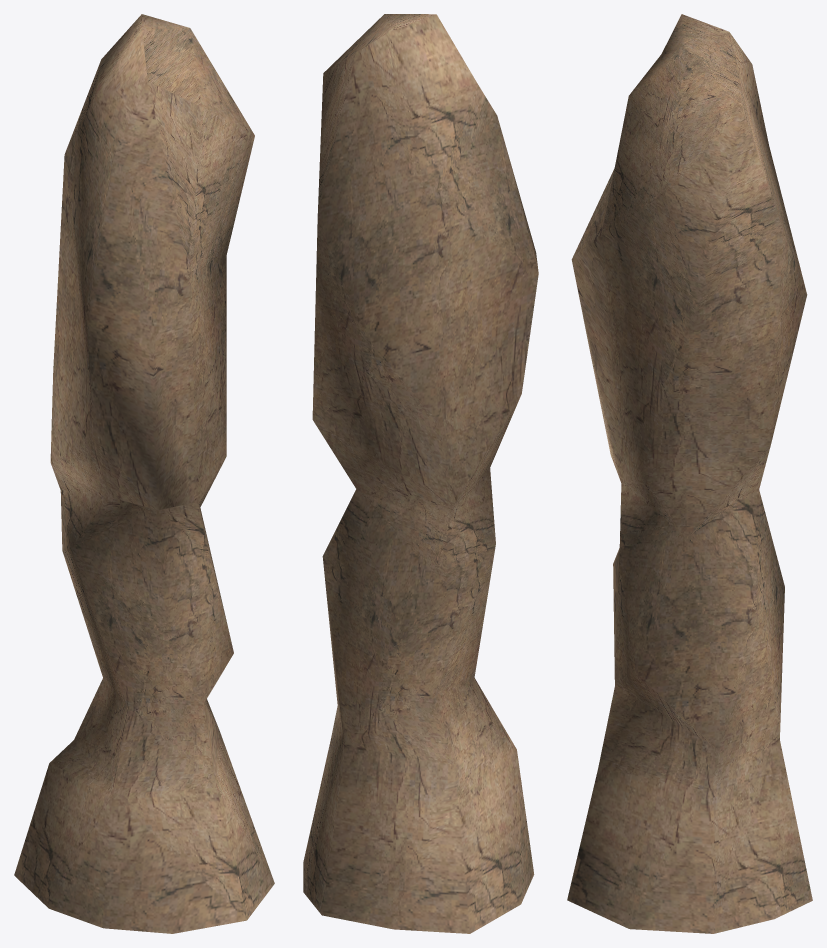
Rendered from rock_tatt_spire_smooth_a2_l2.fbx.
3 views of the same model, side by side, from view 1: azimuth 30°, elevation 25°; view 2: azimuth 150°, elevation 25°; view 3: azimuth 270°, elevation 25° (orthographic).
Parts seen in each view (by area): view 1: mesh_node; view 2: mesh_node; view 3: mesh_node.
Boxes of the visible parts, x1,y1,x2,y2 form: mesh_node: (14, 14, 274, 933); mesh_node: (303, 14, 538, 933); mesh_node: (567, 14, 812, 933).
Bounding box in the file's own units: 16.63 × 66.58 × 17.19.
1 material, 1 textured.
